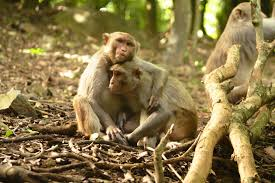monkey: (96, 38, 200, 157), (216, 9, 274, 159), (73, 29, 133, 148)
